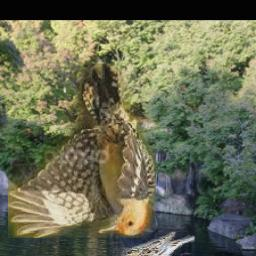Sparrow: (122, 233, 195, 256)
Woodpecker: (8, 65, 156, 239)
